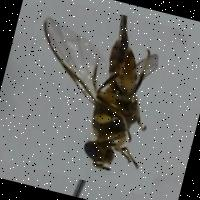Oriental-fruit-fly: (1, 0, 189, 196)
